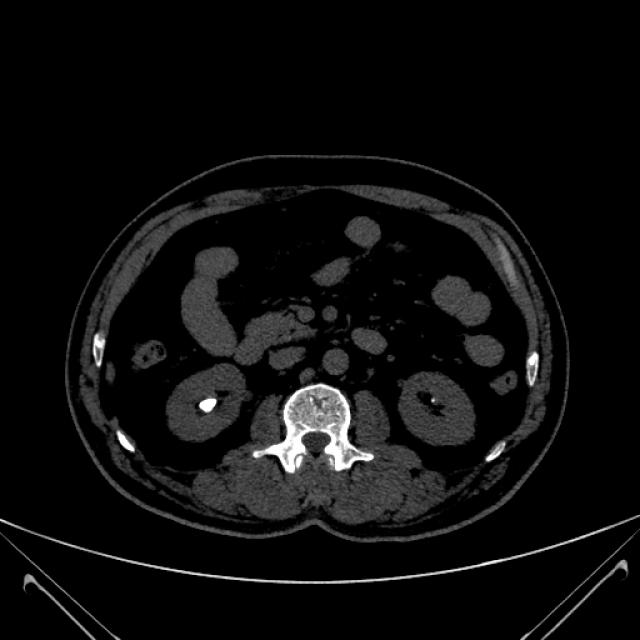kidneystone: (198, 398, 218, 413)
